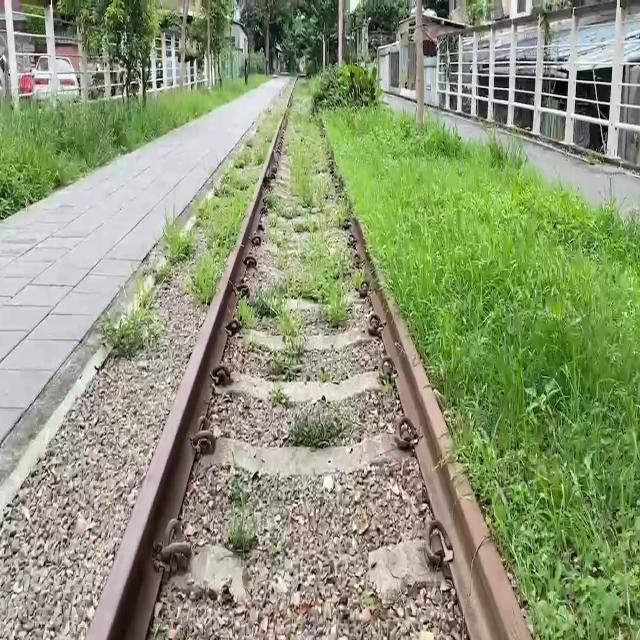rail-track: (148, 82, 470, 639)
